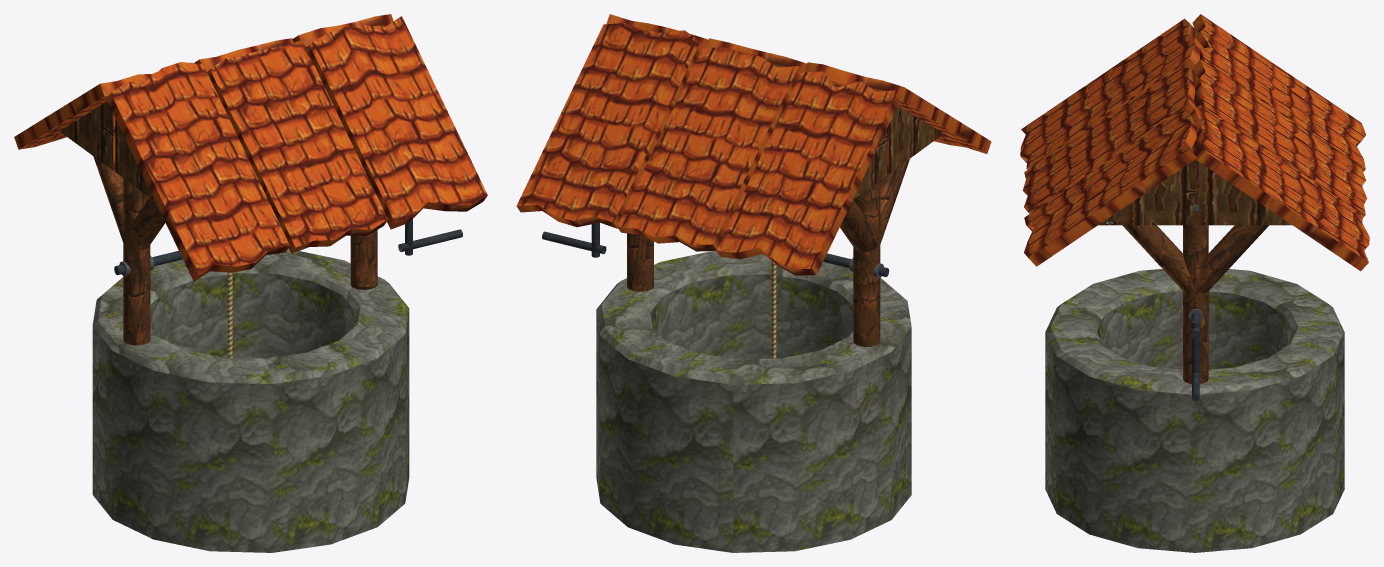
File: decoration_mill.FBX
3 renders of one model, left to right at view 1: azimuth 30°, elevation 25°; view 2: azimuth 150°, elevation 25°; view 3: azimuth 270°, elevation 25°, orthographic. The views are drawn at different scales.
Visible parts, largest first — view 1: Cylinder008; view 2: Cylinder008; view 3: Cylinder008.
Boxes of the visible parts, bbox=[...] form: Cylinder008: bbox=[14, 14, 487, 552]; Cylinder008: bbox=[516, 14, 991, 552]; Cylinder008: bbox=[1020, 14, 1369, 552].
Bounding box in the file's own units: 151 × 178 × 136.
